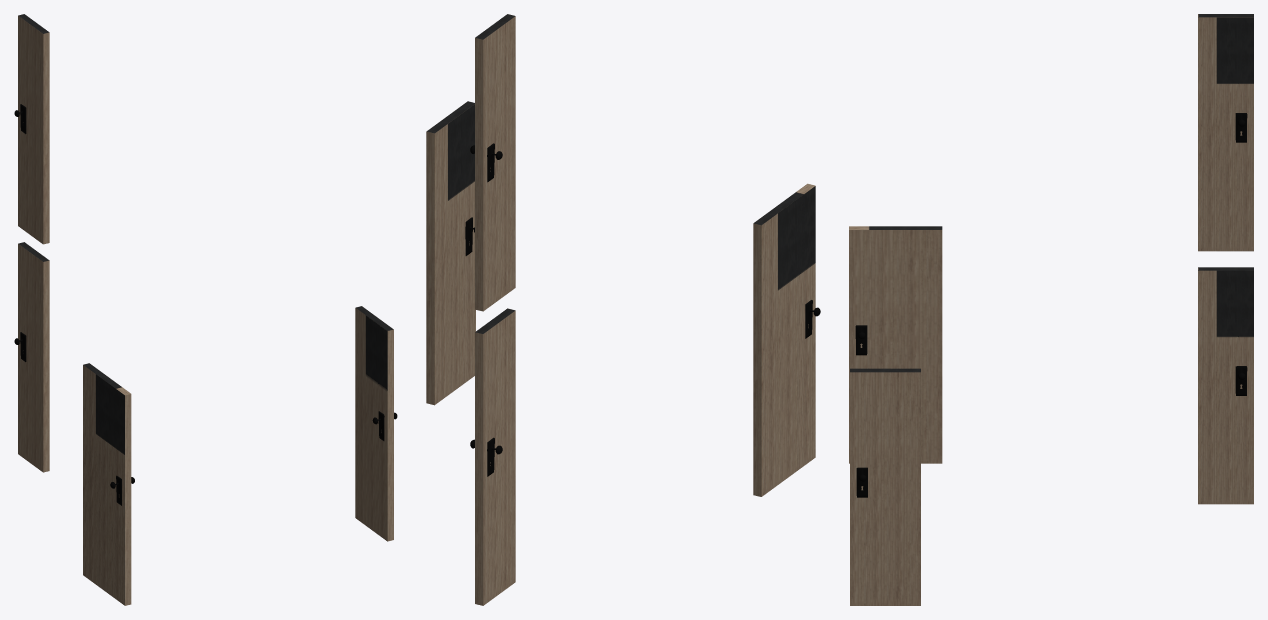
Rendered from 20251203_BUILDIUNG 2_doors.fbx.
3 renders of one model, left to right at view 1: azimuth 30°, elevation 25°; view 2: azimuth 150°, elevation 25°; view 3: azimuth 270°, elevation 25°, orthographic. The views are drawn at different scales.
Parts seen in each view (by area): view 1: DOOR; view 2: DOOR; view 3: DOOR.
Boxes of the visible parts, x1=… form: DOOR: x1=18, y1=14, x2=393, y2=605; DOOR: x1=426, y1=14, x2=815, y2=605; DOOR: x1=849, y1=14, x2=1253, y2=605.
Bounding box in the file's own units: 134 × 196 × 148.
Materials: 2 (1 with a texture image).
